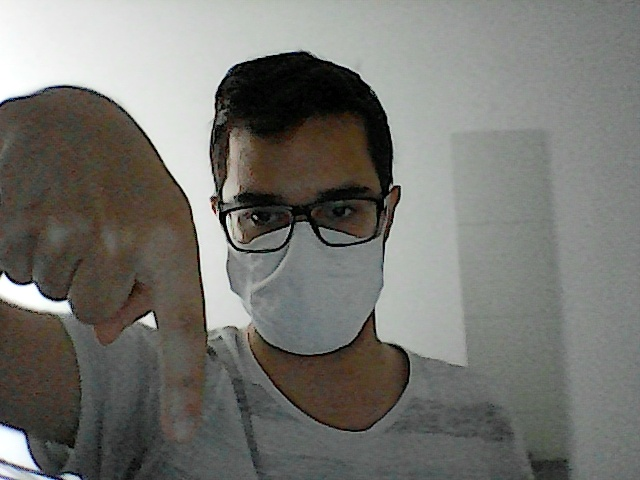down: (1, 74, 215, 453)
